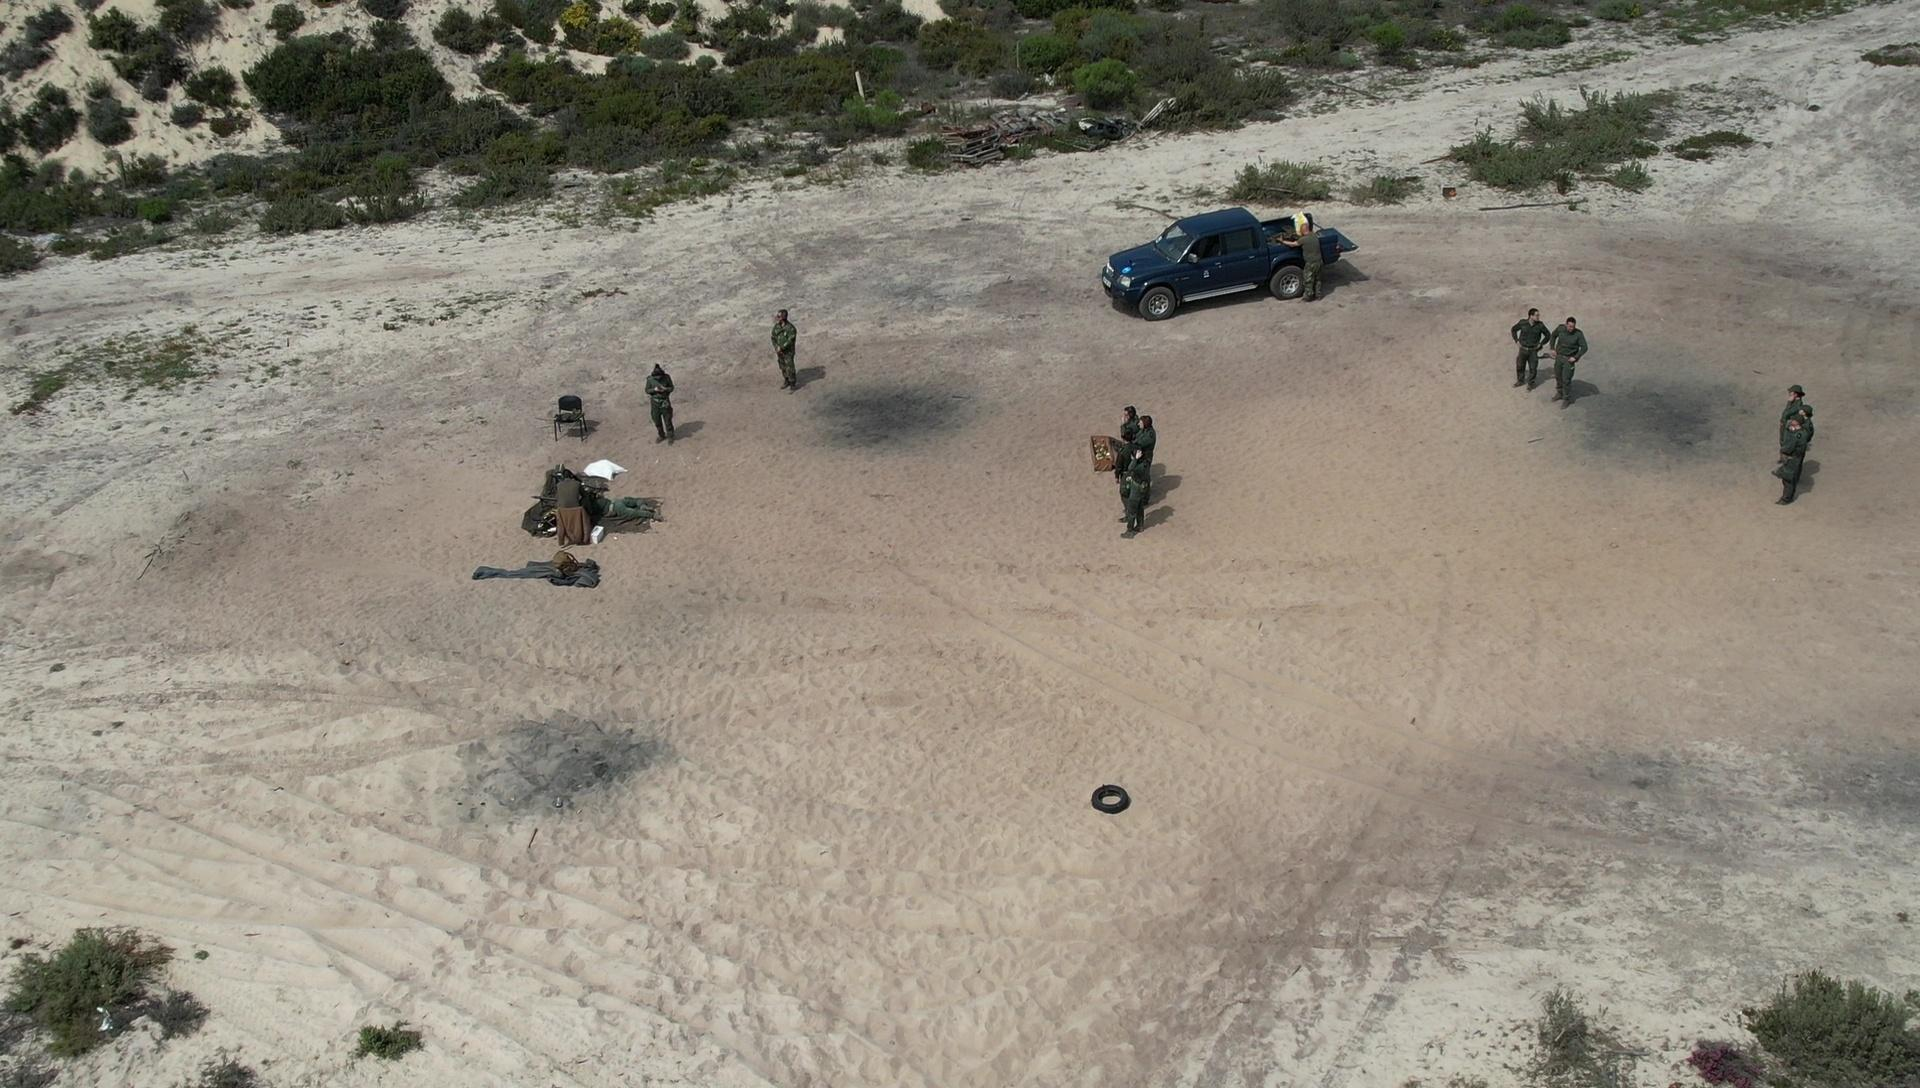Soldier: (764, 299, 815, 408), (1287, 215, 1342, 310), (641, 361, 691, 458), (583, 485, 666, 542), (1547, 313, 1592, 408), (1118, 429, 1159, 529), (1776, 418, 1817, 502), (1513, 305, 1548, 394), (549, 475, 589, 538), (1782, 382, 1815, 427), (1124, 417, 1159, 458), (1792, 411, 1818, 452)
